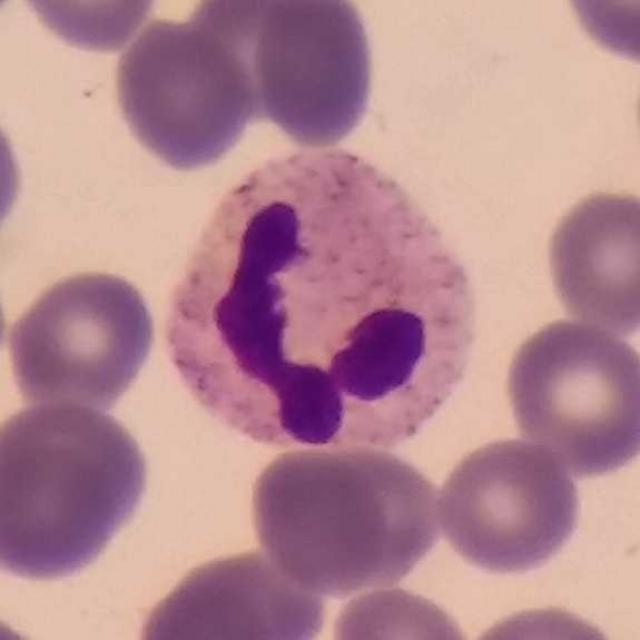Neutrophil: (154, 133, 494, 462)
RBC: (0, 394, 156, 587), (245, 440, 434, 594), (108, 13, 259, 175), (3, 263, 162, 412), (500, 312, 640, 480), (431, 434, 585, 579), (248, 0, 380, 150), (128, 544, 326, 640), (538, 183, 640, 335), (326, 582, 477, 640), (11, 0, 163, 55), (461, 599, 629, 640), (555, 0, 640, 69), (0, 97, 29, 259), (628, 37, 640, 199)
